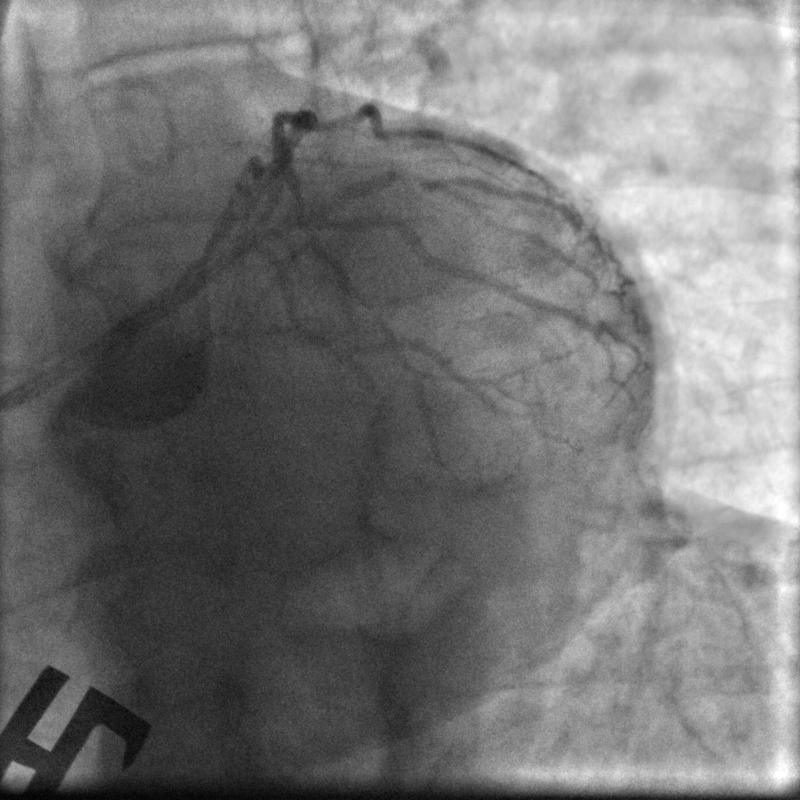Stenosis: (381, 165, 439, 189)
